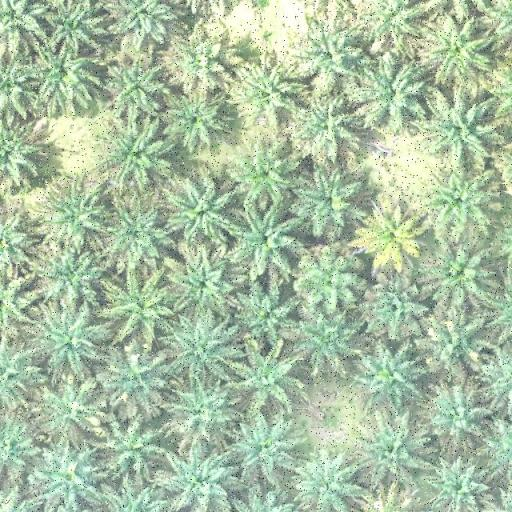Ganoderma: (370, 212, 416, 255)
